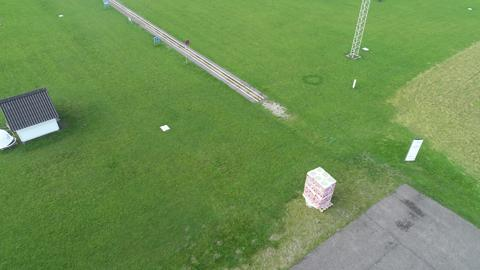RockwoolPallet: (303, 167, 337, 210)
